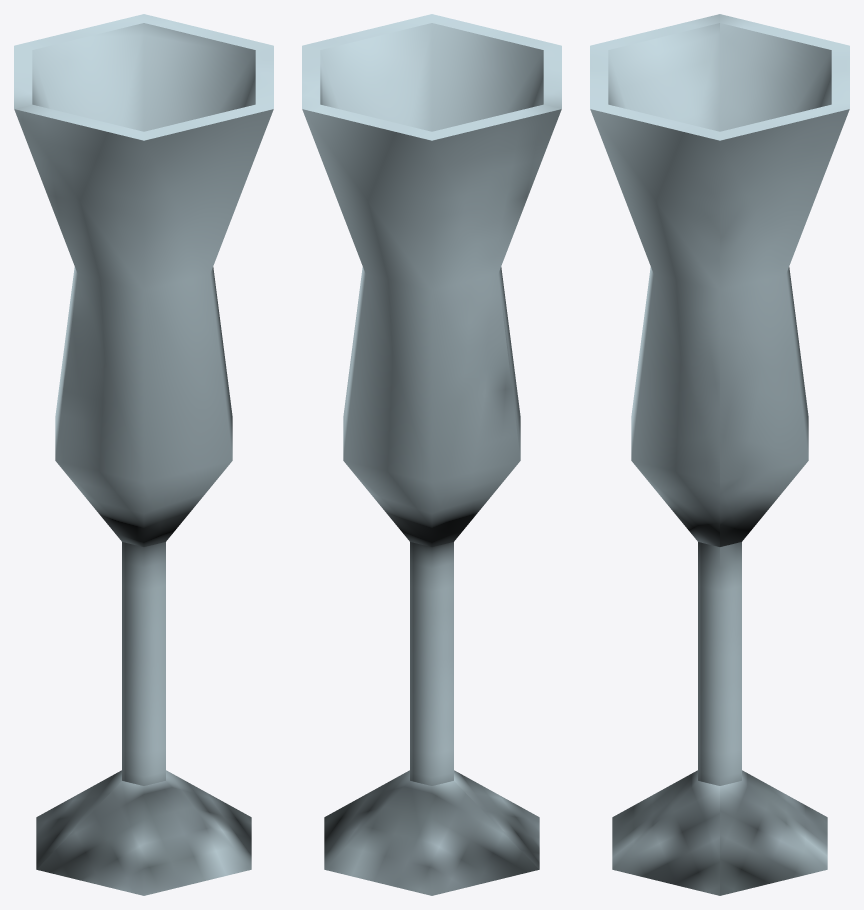
The model's file is EmptyGlassV3.fbx.
The picture shows the model from 3 angles, left to right: view 1: azimuth 30°, elevation 25°; view 2: azimuth 150°, elevation 25°; view 3: azimuth 270°, elevation 25°; orthographic projection.
Parts seen in each view (by area): view 1: Glasses.006; view 2: Glasses.006; view 3: Glasses.006.
Boxes of the visible parts, x1,y1,x2,y2 form: Glasses.006: (14, 14, 273, 895); Glasses.006: (302, 14, 561, 895); Glasses.006: (590, 14, 849, 895).
Bounding box in the file's own units: 0.0797 × 0.2246 × 0.069.
